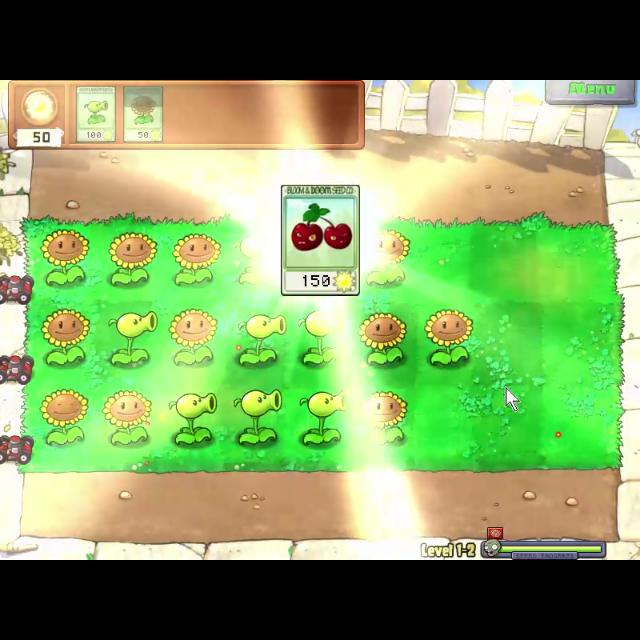Garden: (19, 213, 625, 474)
Menu Button: (544, 80, 638, 106)
Mower: (1, 348, 36, 388), (0, 272, 38, 306), (0, 433, 34, 465)
Peashooter: (76, 86, 116, 144)
Peashooter Seed: (231, 384, 291, 446), (102, 308, 158, 366), (234, 310, 286, 368), (296, 308, 340, 372), (168, 392, 218, 448), (302, 389, 348, 447)
Seed Panel: (5, 80, 367, 154)
Sunflower: (121, 82, 165, 144)
Sunflower Seed: (40, 303, 92, 369), (36, 388, 90, 448), (102, 386, 154, 448), (362, 225, 411, 289), (356, 310, 410, 368), (37, 226, 89, 286), (104, 228, 156, 288), (168, 307, 218, 368), (423, 308, 473, 368), (359, 388, 409, 448), (170, 229, 218, 285)
